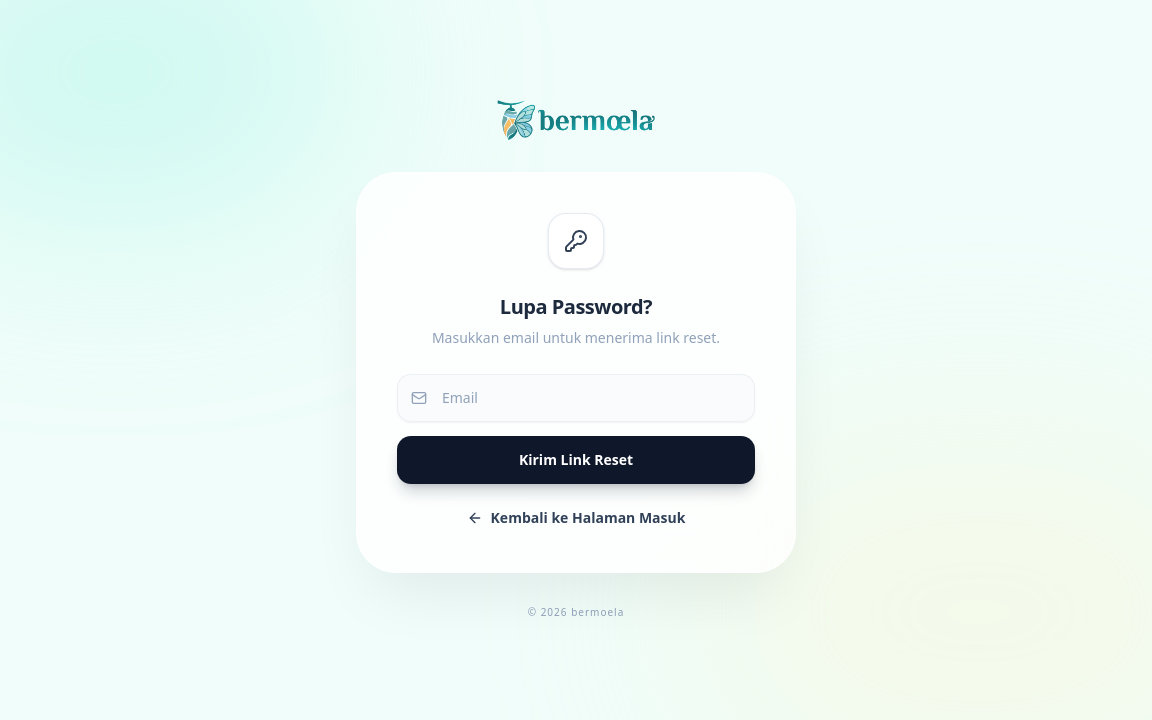
Test: ForgotPasswordForm › shows validation error on empty email submit
Click the button "Kirim Link Reset".
click(576, 460)  # box [397,436,755,484]
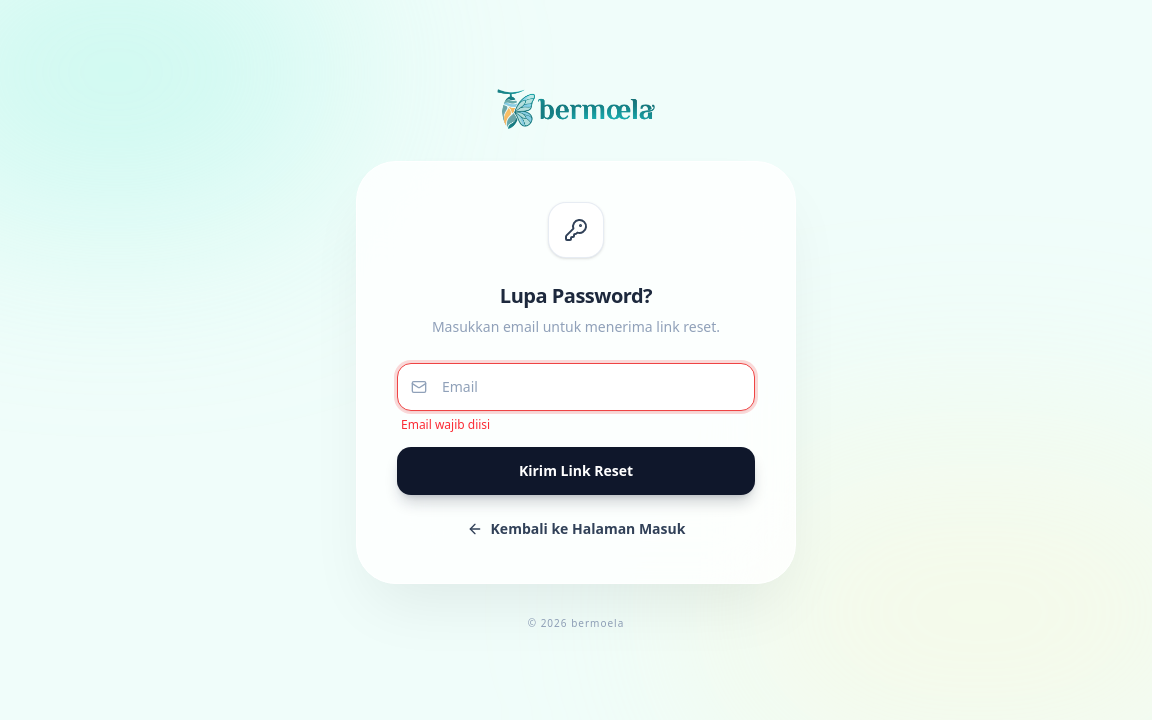
Expected: the text "Email wajib diisi" is shown, [401,416,490,433]
